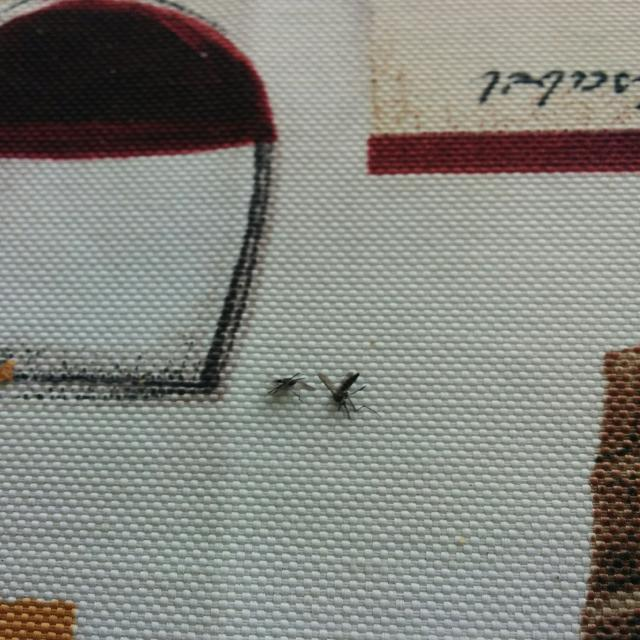albopictus: (255, 363, 378, 420)
